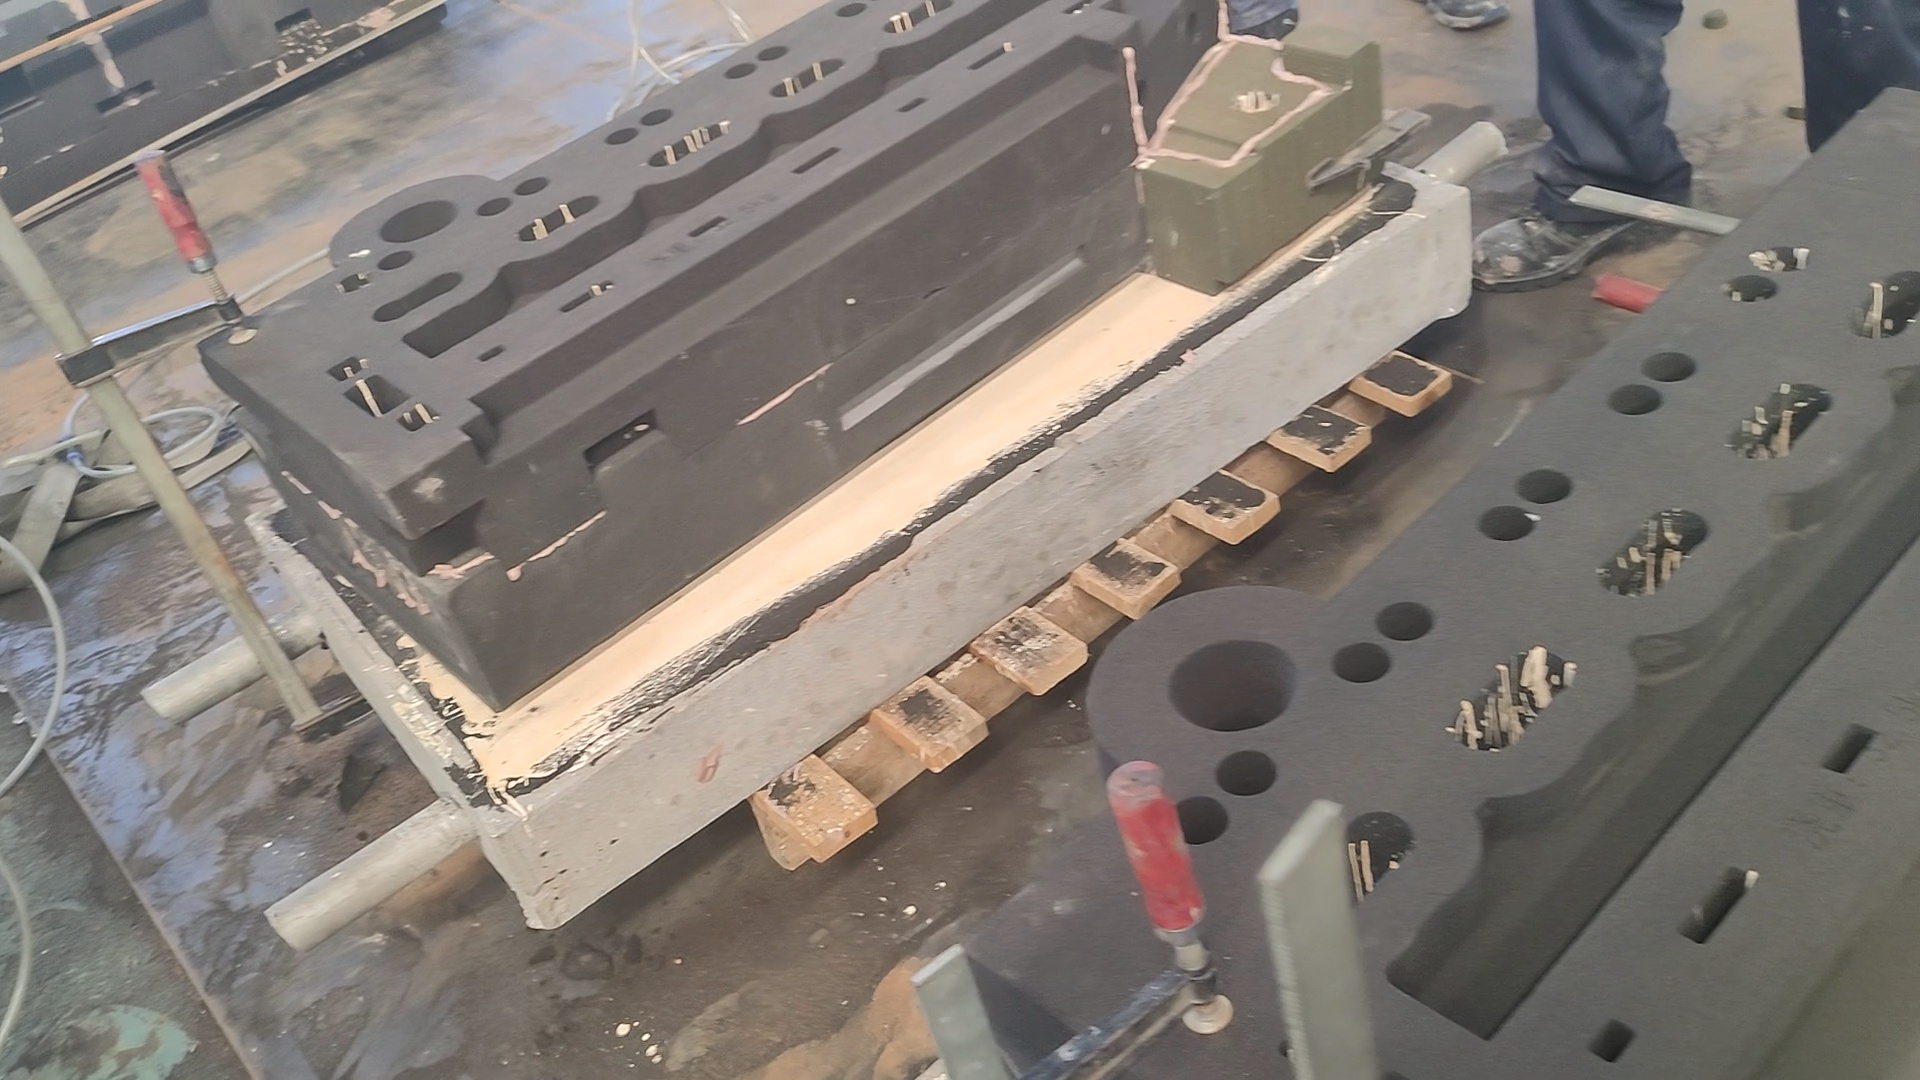pouring hole: (1166, 636, 1299, 731), (376, 200, 460, 241)
